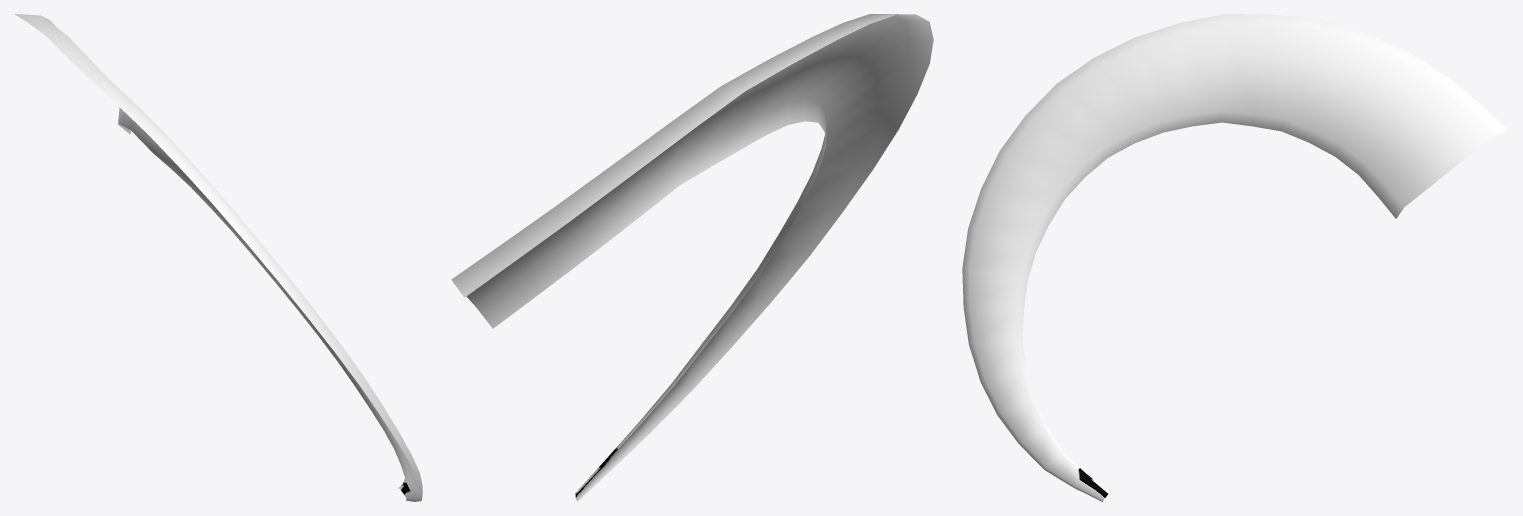
File: VFX_BossNormalAttack_L.fbx
The picture shows the model from 3 angles, left to right: view 1: azimuth 30°, elevation 25°; view 2: azimuth 150°, elevation 25°; view 3: azimuth 270°, elevation 25°; orthographic projection. The views are drawn at different scales.
Parts seen in each view (by area): view 1: vfx_NormalAttack_L; view 2: vfx_NormalAttack_L; view 3: vfx_NormalAttack_L.
Boxes of the visible parts, box(x1,y1,x2,y2) form: vfx_NormalAttack_L: box(14, 14, 422, 501); vfx_NormalAttack_L: box(451, 14, 933, 501); vfx_NormalAttack_L: box(962, 14, 1508, 501).
Size of the model in its own units: 769 by 1275 by 1651.
